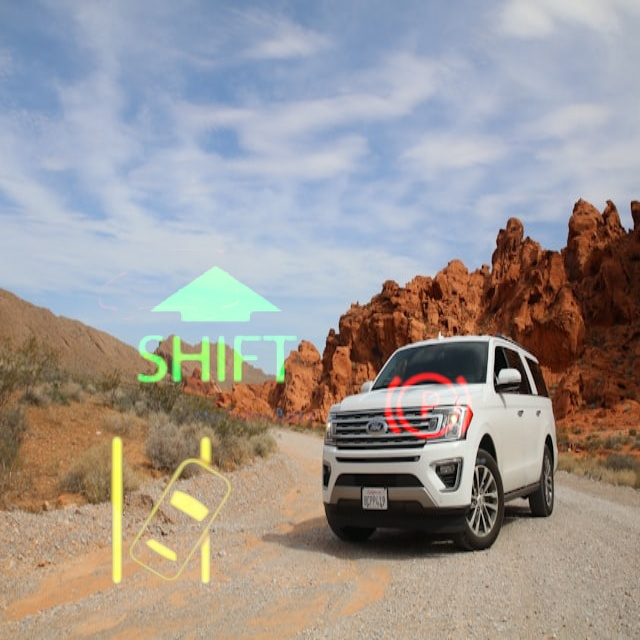symbol: (62, 406, 280, 624), (67, 179, 284, 396), (110, 220, 323, 433), (365, 344, 491, 470)
